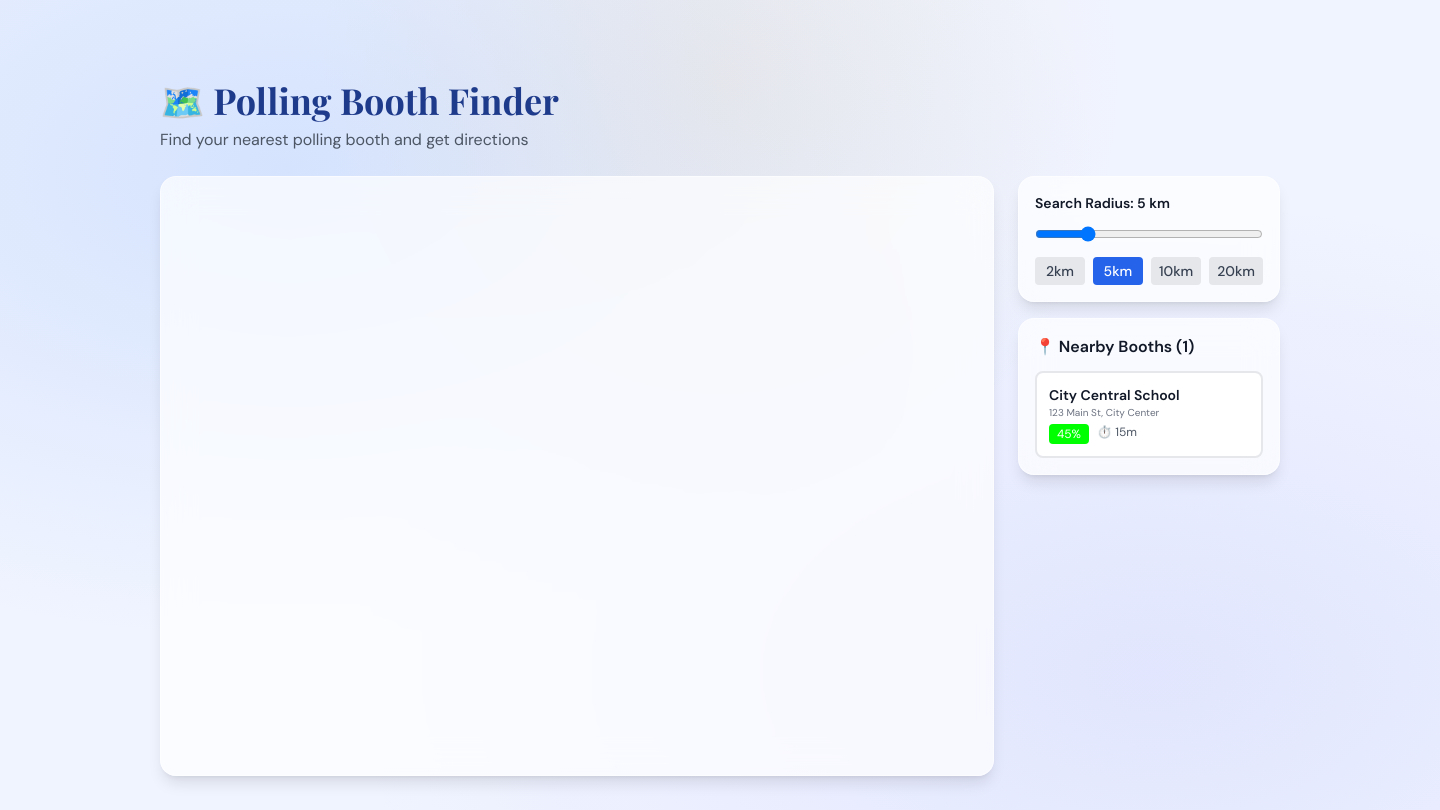
Test: PollingBoothFinder › handles booth selection and shows details
This screenshot has width=1440, height=810.
Click the text "City Central School" at coordinates (1114, 395), box left=1049, top=386, right=1180, bottom=404
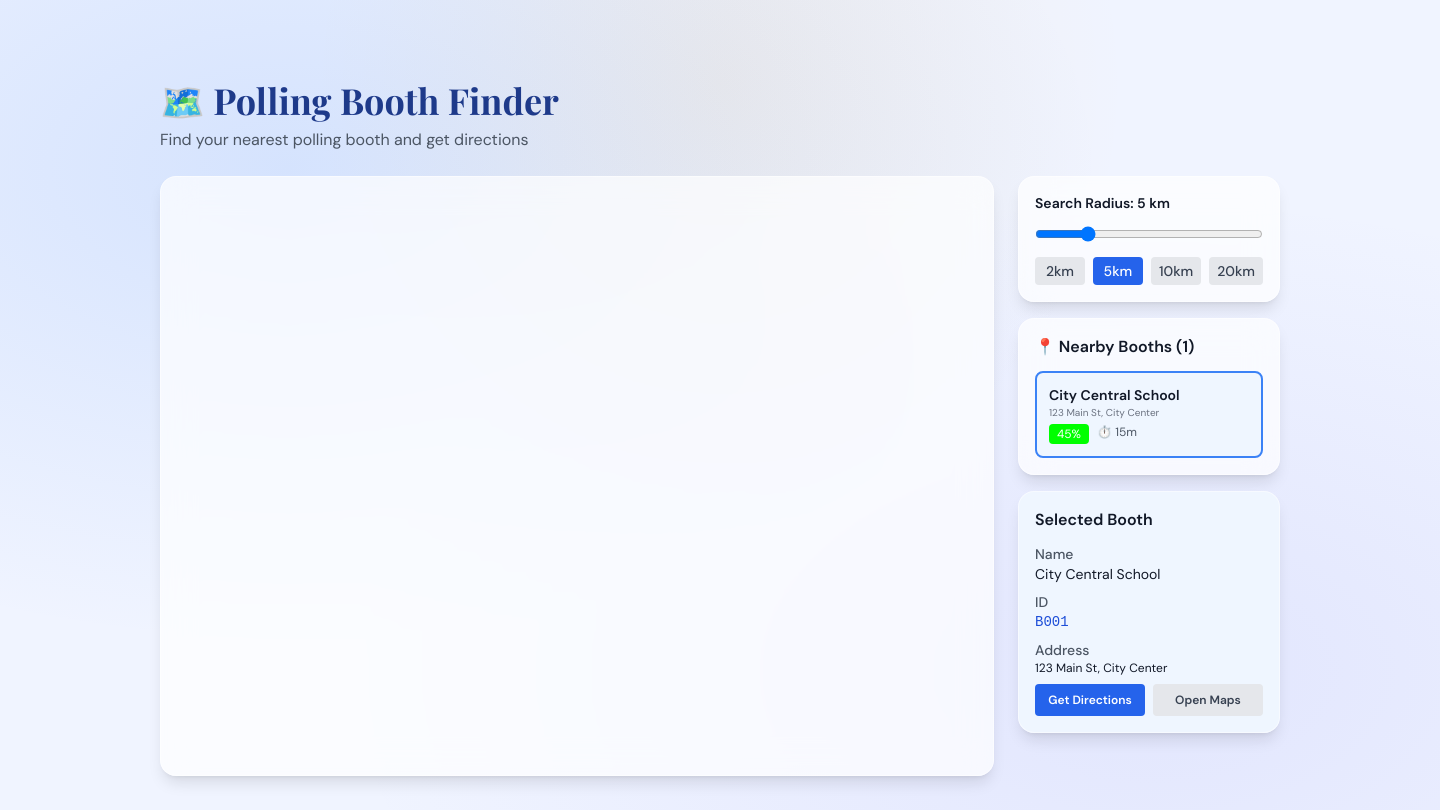
Now the heading "Selected Booth" is shown, box left=1035, top=509, right=1153, bottom=530
Now the text "B001" is shown, box left=1035, top=614, right=1069, bottom=630
Now the button "Get Directions" is shown, box left=1035, top=684, right=1145, bottom=716
